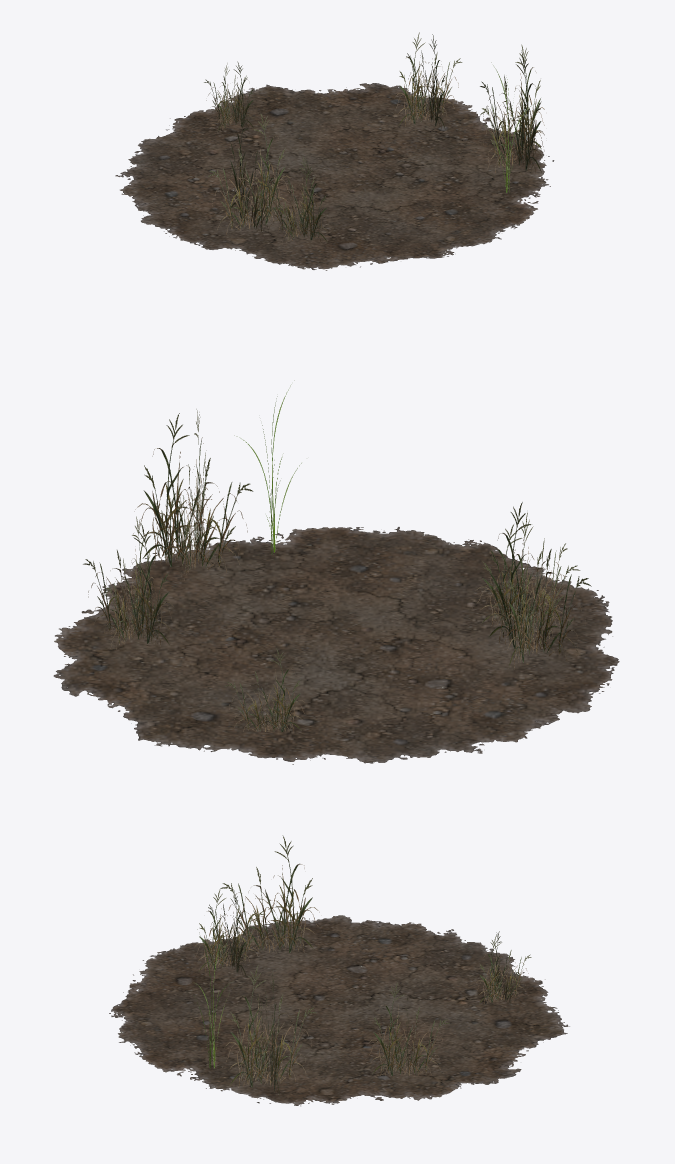
File: Grass_11.fbx
The picture shows the model from 3 angles, top to bottom: view 1: azimuth 30°, elevation 25°; view 2: azimuth 150°, elevation 25°; view 3: azimuth 270°, elevation 25°; orthographic projection. The views are drawn at different scales.
Visible parts, largest first — view 1: Grass_11; view 2: Grass_11; view 3: Grass_11.
Part boxes in pixels (x1=…): Grass_11: x1=115, y1=32, x2=554, y2=270; Grass_11: x1=53, y1=380, x2=619, y2=764; Grass_11: x1=109, y1=835, x2=569, y2=1106.
Size of the model in its own units: 214 by 51.27 by 214.
Materials: 1 (1 with a texture image).
